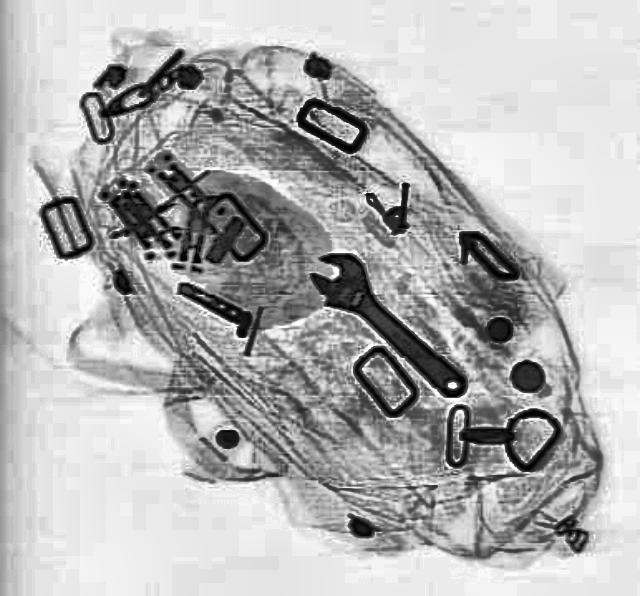Wrench: (292, 237, 486, 408)
